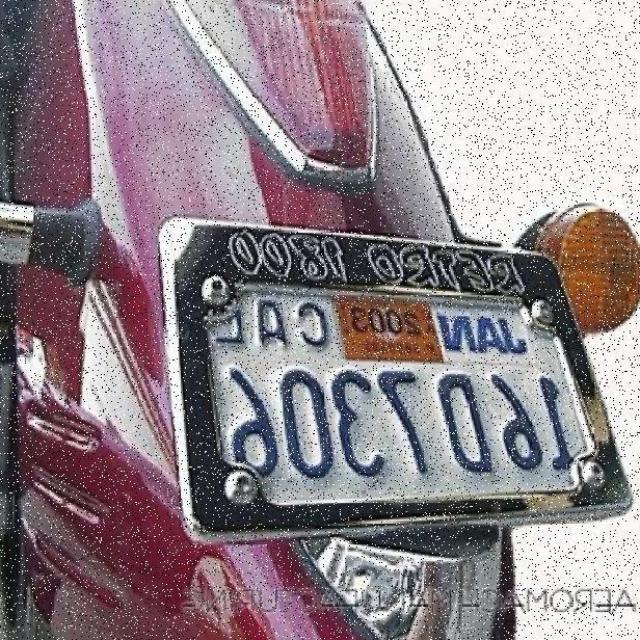license-plate: (168, 194, 632, 640)
